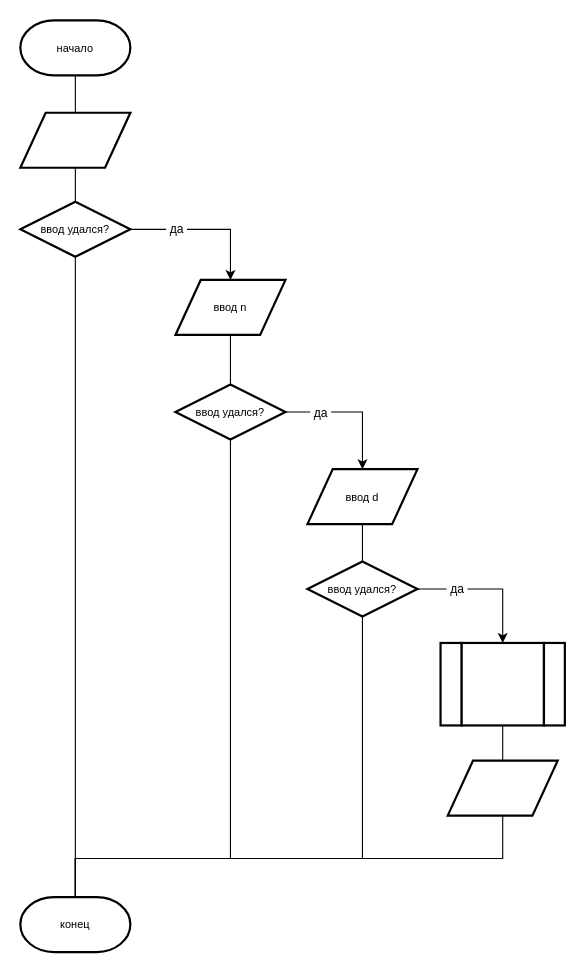
This 584x971 diagram has some shape labels left out. The shapes that lost their labels are listed below. From the top down, each one's centre as x and y in pixels, then its label:
At [75,139]: "ввод s".
At [502,683]: "count = count_words(s, d);".
At [502,787]: "count".
